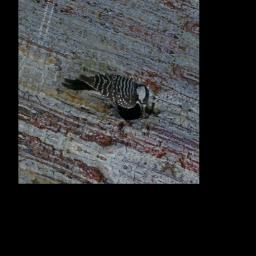Woodpecker: (60, 52, 155, 122)
